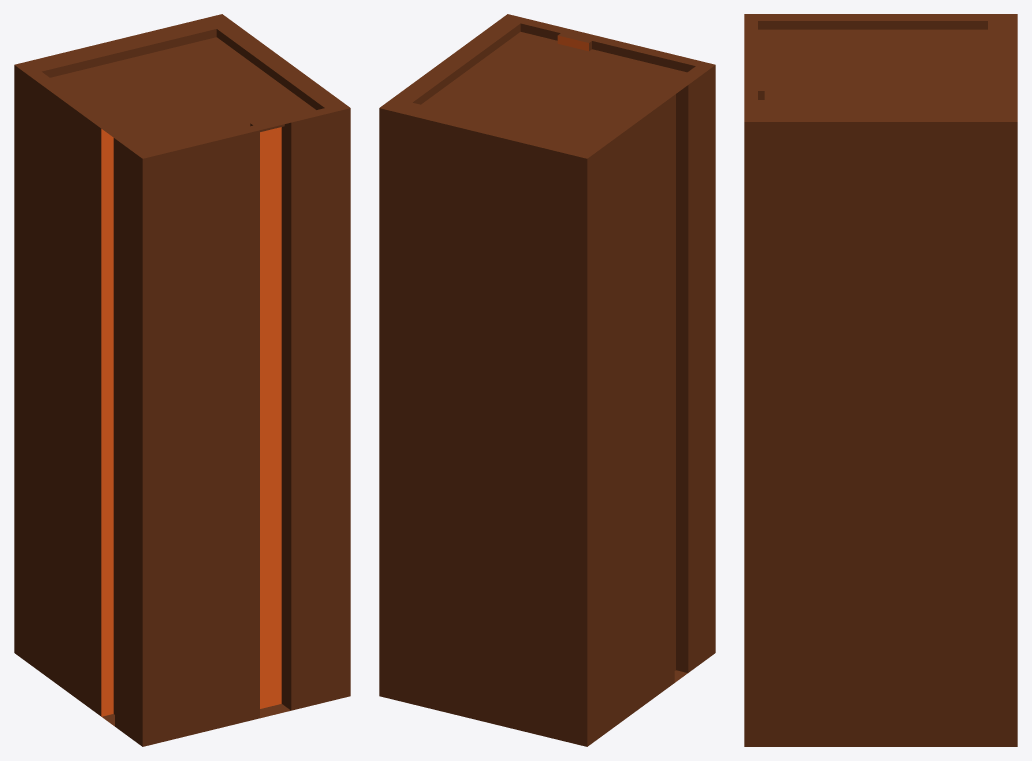
3 views of the same model, side by side, from view 1: azimuth 30°, elevation 25°; view 2: azimuth 150°, elevation 25°; view 3: azimuth 270°, elevation 25° (orthographic). The views are drawn at different scales.
Parts seen in each view (by area): view 1: Cube.002; view 2: Cube.002; view 3: Cube.002.
Part boxes in pixels (left/top/right/bottom): Cube.002: left=14, top=14, right=350, bottom=746; Cube.002: left=379, top=14, right=715, bottom=746; Cube.002: left=744, top=14, right=1017, bottom=746.
Bounding box in the file's own units: 455 × 1228 × 487.
